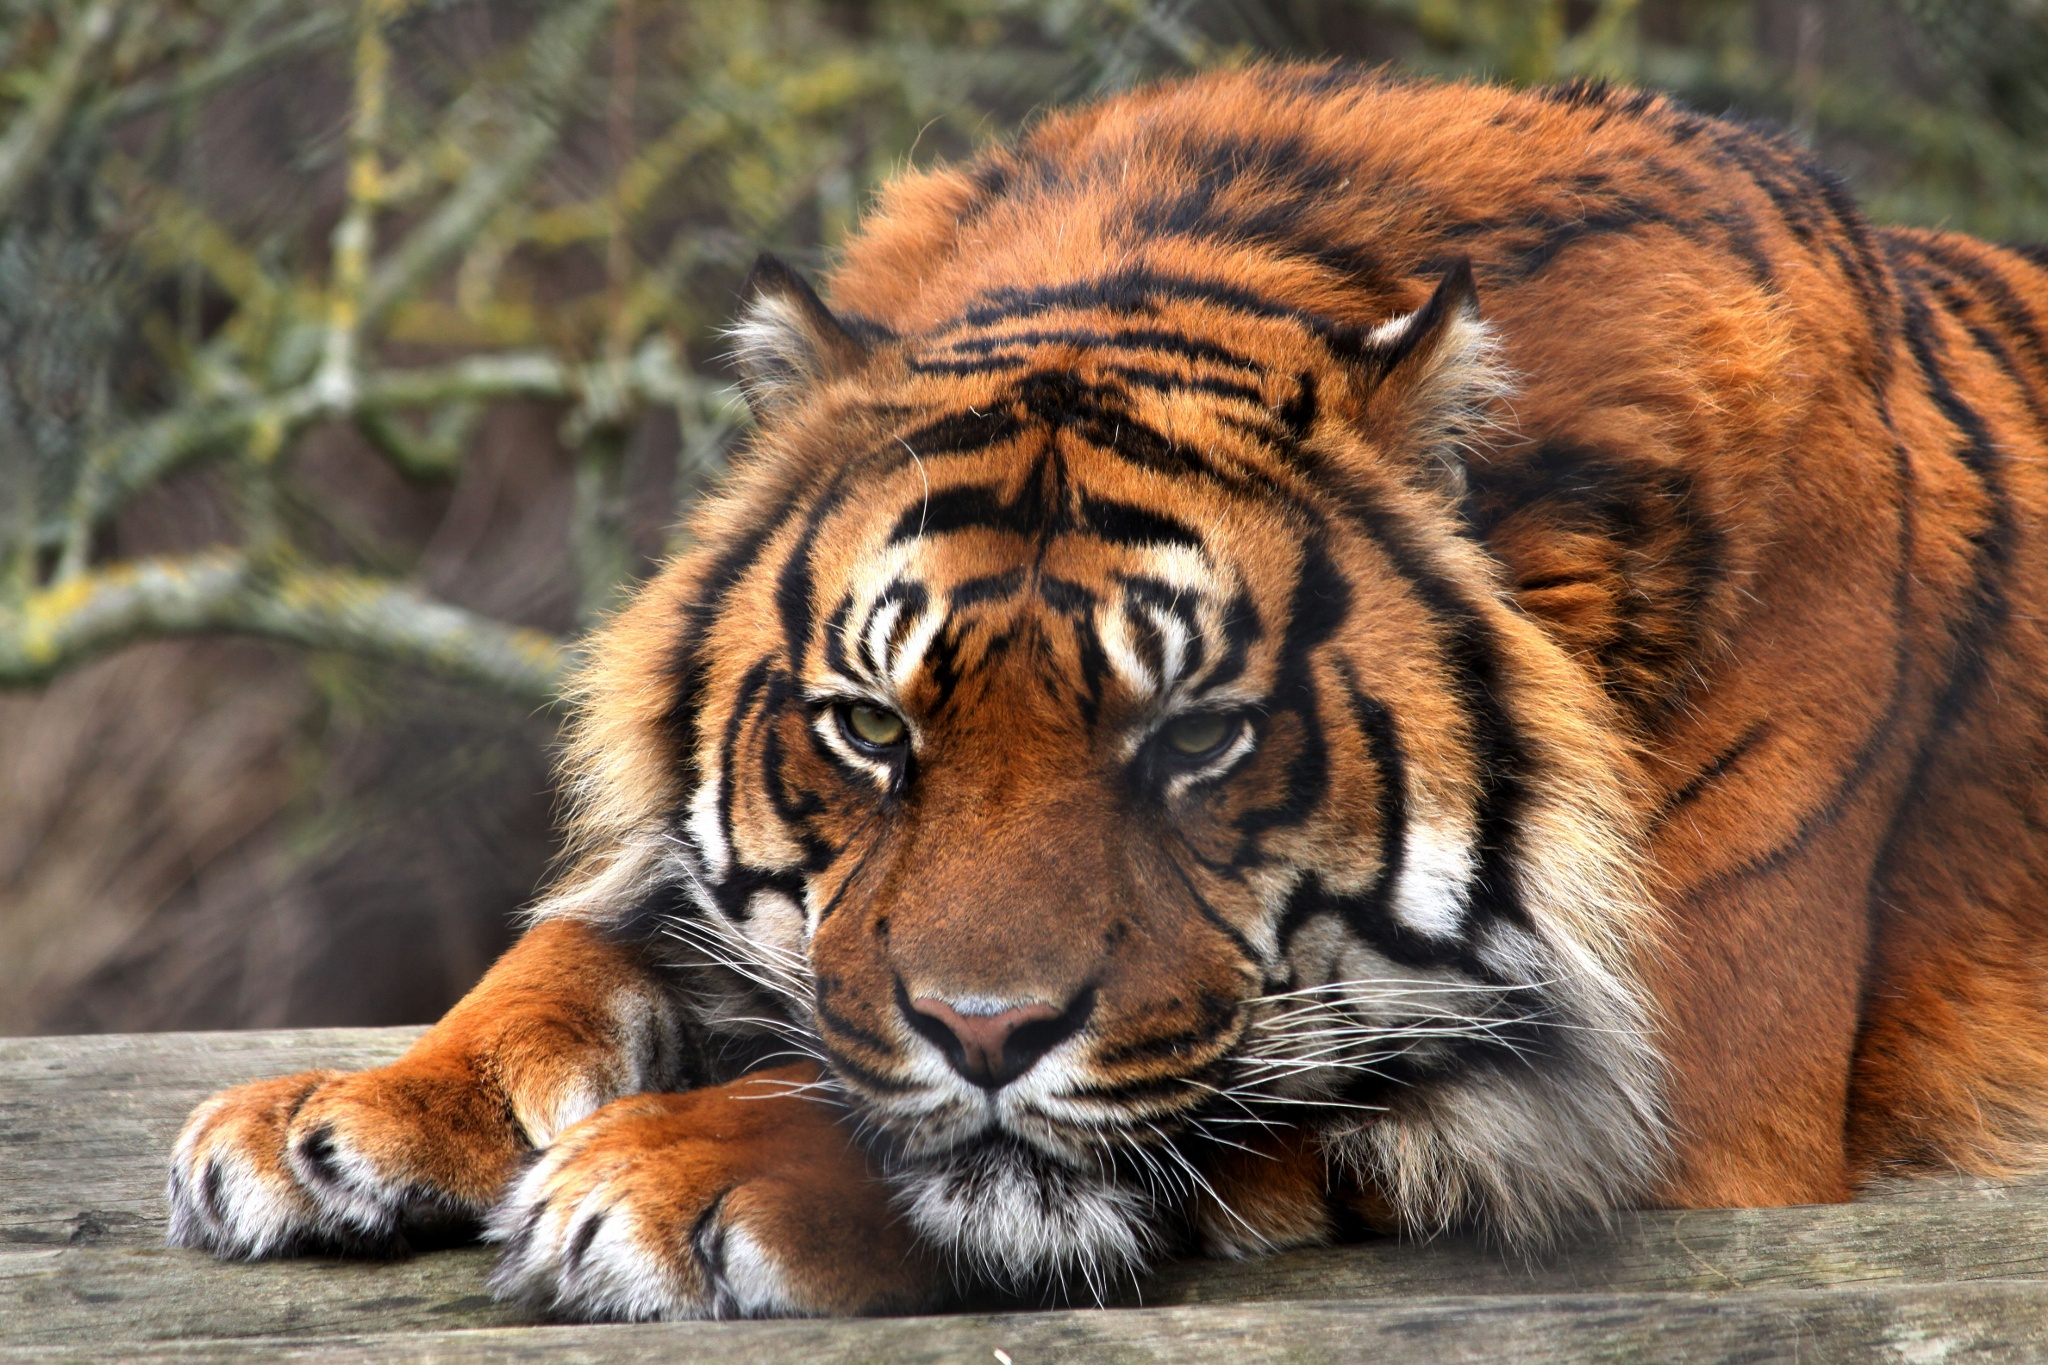tiger: (206, 148, 2034, 1295)
